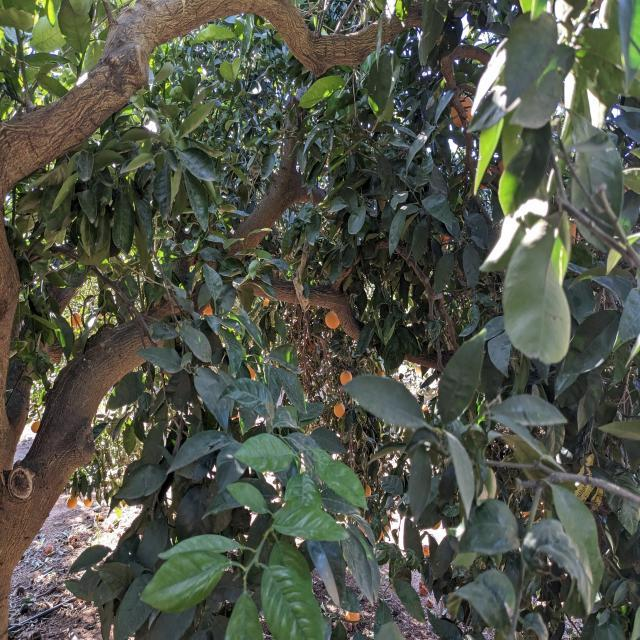Jeruk Sudah Matang: (451, 96, 474, 125), (325, 312, 344, 328), (332, 402, 346, 418), (346, 611, 361, 624), (570, 223, 579, 243), (341, 372, 353, 385), (202, 303, 214, 315), (30, 420, 42, 432), (71, 312, 82, 324), (68, 497, 78, 508), (85, 496, 94, 508), (366, 482, 372, 496)
